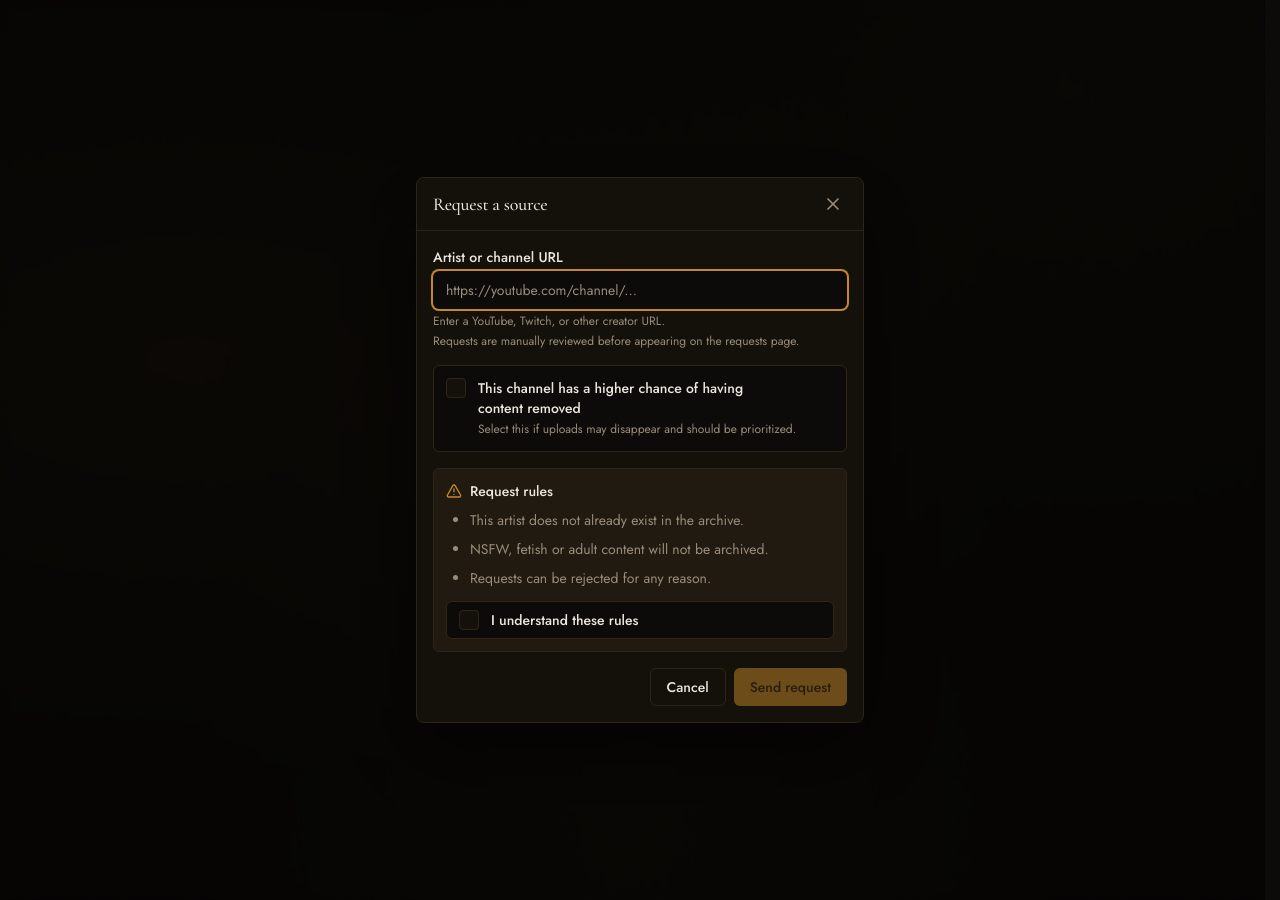
Scenario: RequestSourceDialog › shows the duplicate message returned by the backend
The width and height of the screenshot is (1280, 900).
Step 1. Type "https://m.youtube.com/@example" into the field labelled "Artist or channel URL" → (640, 290), box 433,271 -> 847,309
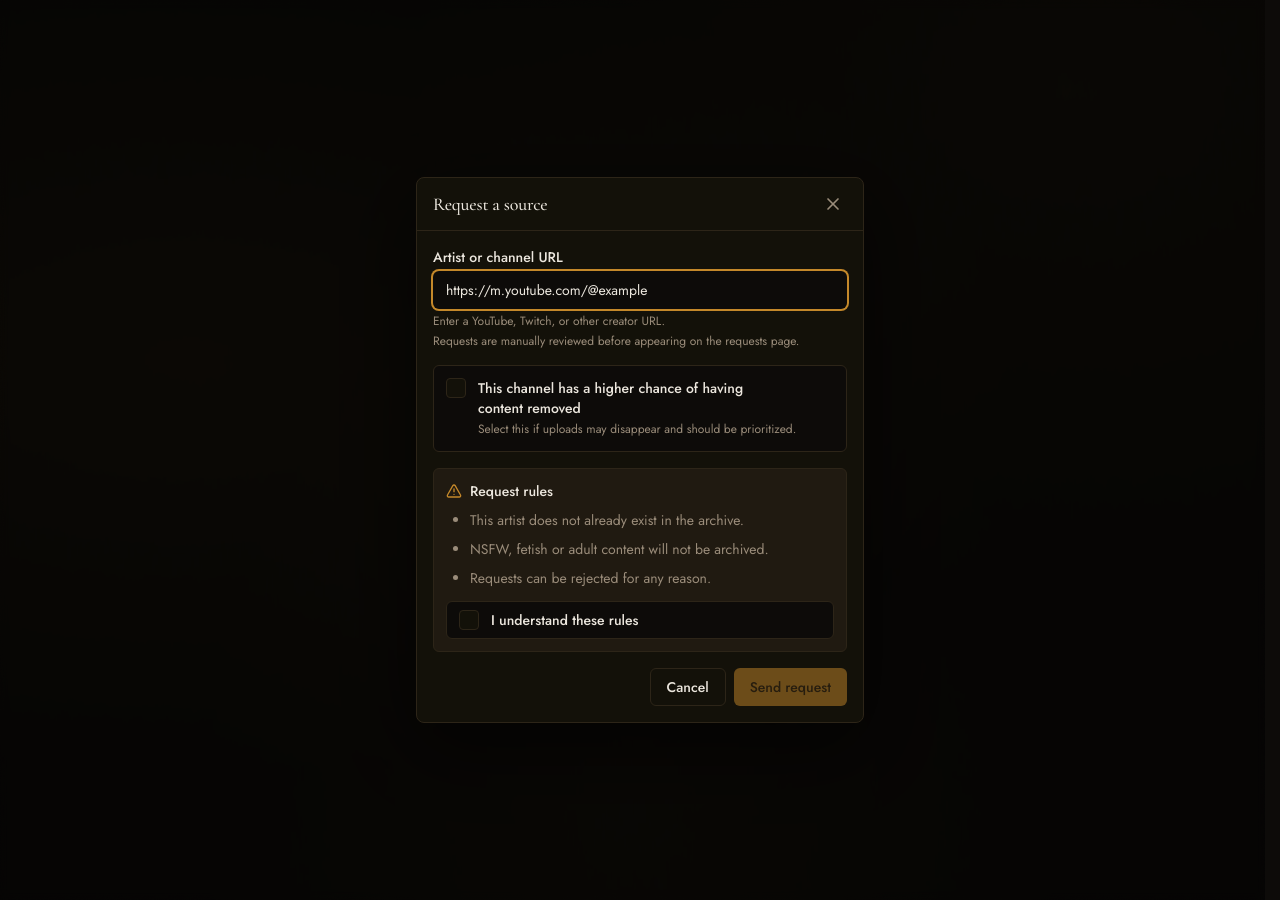
Step 2. Click the text "I understand these rules" → (565, 620), box 491,610 -> 638,630
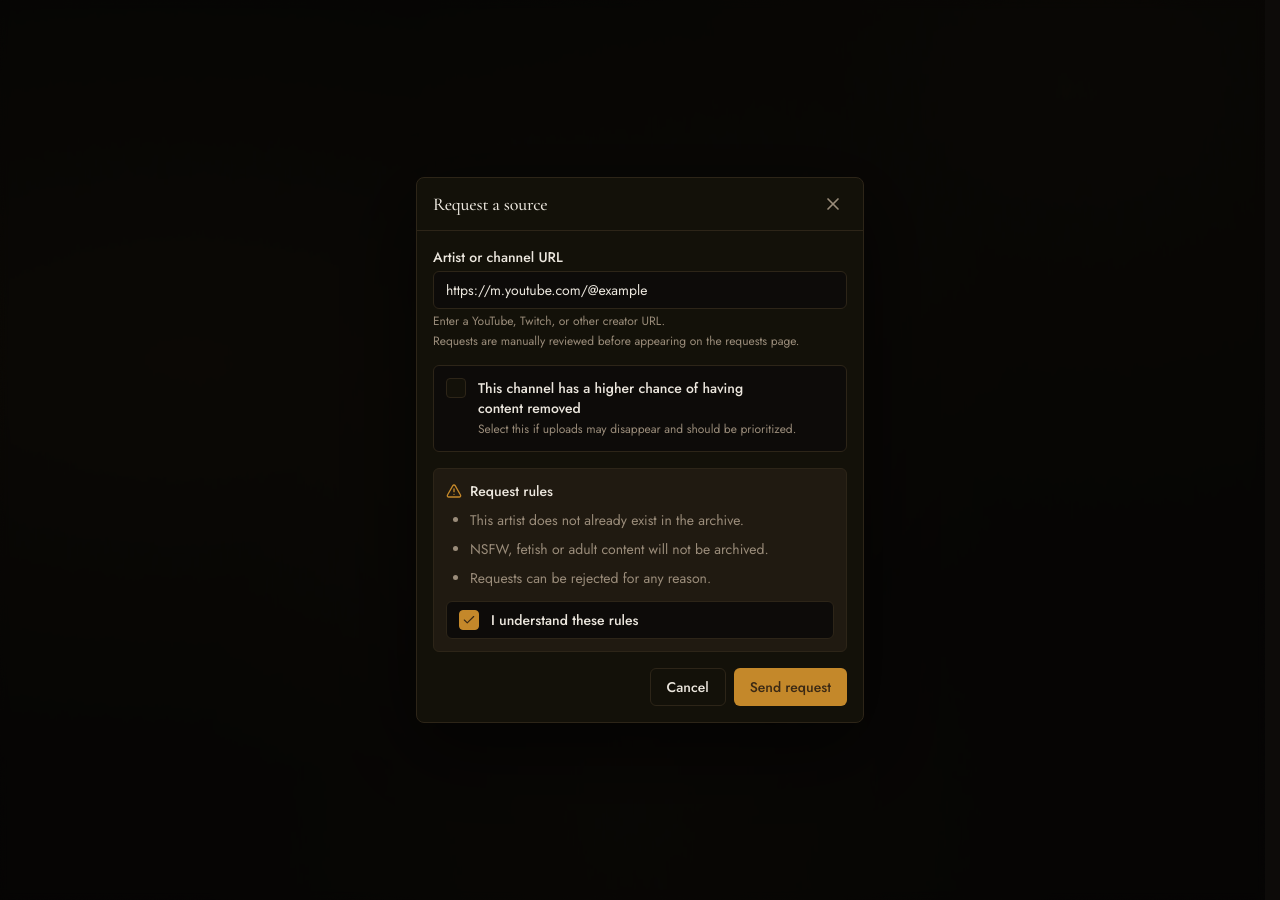
Step 3. Click the button "Send request" → (790, 687), box 734,668 -> 847,706
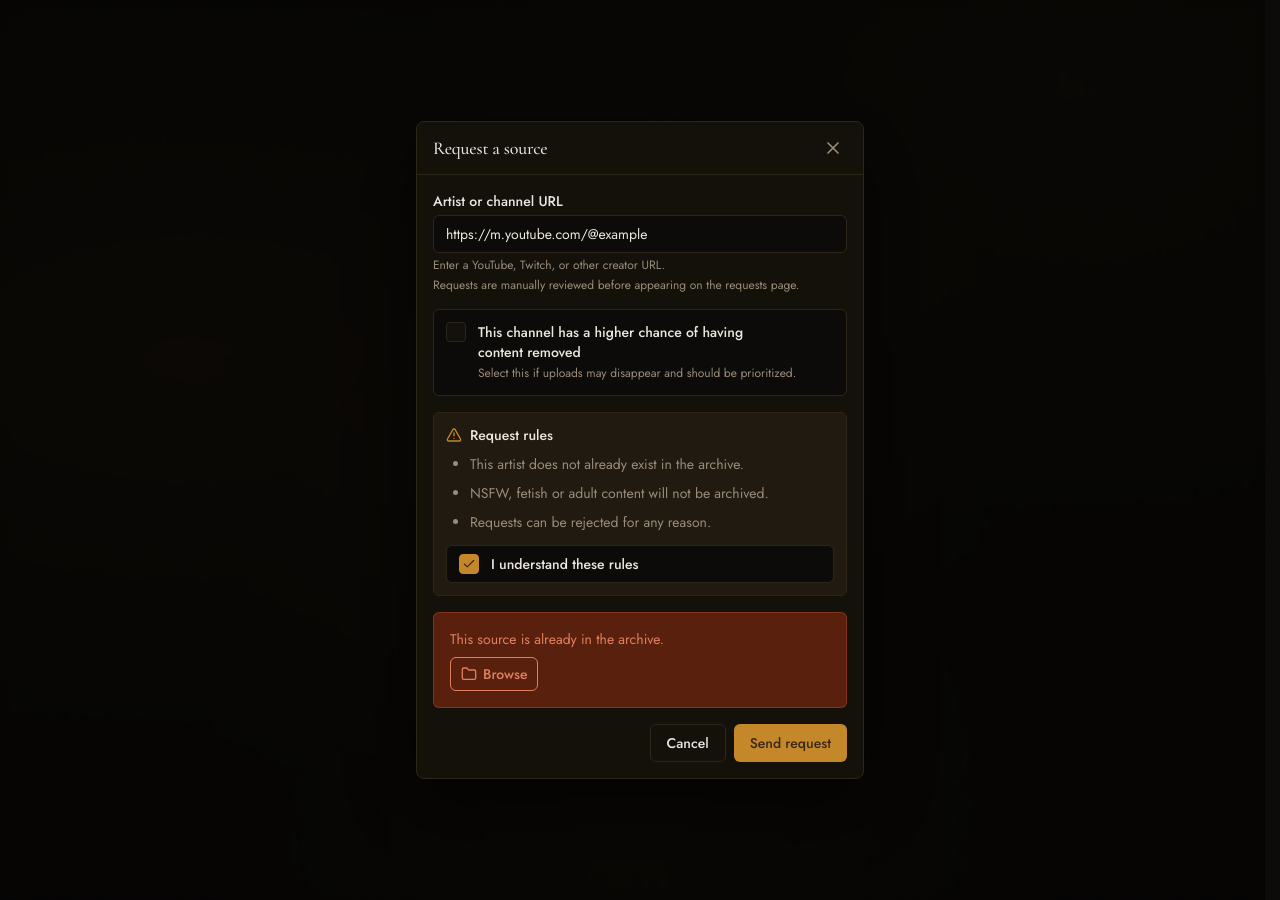
Check: the text "This source is already in the archive." is shown, box 450,629 -> 664,649
